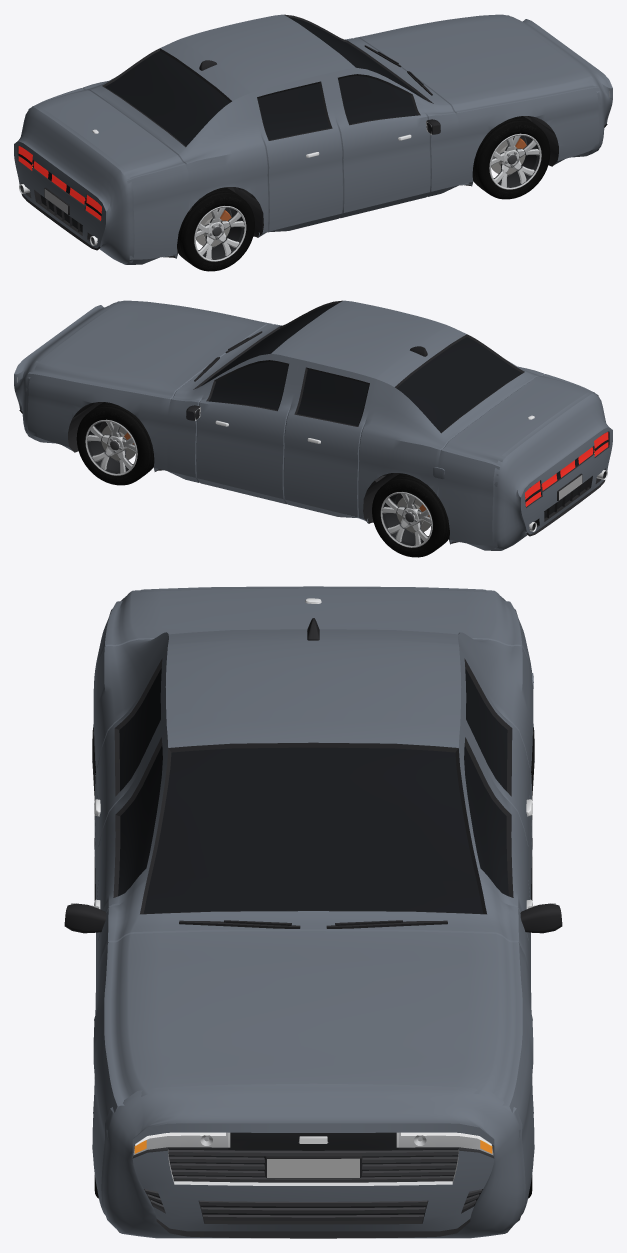
Rendered from veloce-s4.glb.
3 renders of one model, top to bottom at view 1: azimuth 30°, elevation 25°; view 2: azimuth 150°, elevation 25°; view 3: azimuth 270°, elevation 25°, orthographic. The views are drawn at different scales.
Parts seen in each view (by area): view 1: SED_Body, SED_Rear_Clip, SED_Tire_FR, SED_Tire_RR, SED_Rim_FR, SED_Rim_RR, SED_Front_Clip, SED_Rear_Lamps, SED_Brake_FR, SED_Brake_RR; view 2: SED_Body, SED_Rear_Clip, SED_Tire_FL, SED_Tire_RL, SED_Rim_FL, SED_Rim_RL, SED_Front_Clip, SED_Rear_Lamps, SED_Brake_RL; view 3: SED_Body, SED_Front_Clip, SED_Front_Grille, SED_Front_Lamps, SED_Front_Splitter, SED_PlateF_Face, SED_Rear_Clip, SED_Mirror_L, SED_Mirror_R.
Part boxes in pixels (box(x1,y1,x2,y2)): SED_Body: box(28, 14, 601, 264); SED_Rear_Clip: box(14, 106, 134, 264); SED_Tire_FR: box(472, 116, 550, 199); SED_Tire_RR: box(177, 187, 254, 271); SED_Rim_FR: box(489, 133, 541, 189); SED_Rim_RR: box(194, 206, 246, 261); SED_Front_Clip: box(502, 14, 612, 150); SED_Rear_Lamps: box(18, 146, 101, 220); SED_Brake_FR: box(491, 137, 526, 174); SED_Brake_RR: box(196, 209, 231, 246); SED_Body: box(25, 300, 598, 550); SED_Rear_Clip: box(492, 392, 612, 550); SED_Tire_FL: box(76, 402, 154, 485); SED_Tire_RL: box(372, 473, 449, 557); SED_Rim_FL: box(85, 419, 137, 475); SED_Rim_RL: box(380, 492, 432, 547); SED_Front_Clip: box(14, 300, 124, 435); SED_Rear_Lamps: box(525, 432, 608, 506); SED_Brake_RL: box(396, 495, 430, 532); SED_Body: box(92, 588, 534, 1232); SED_Front_Clip: box(101, 1083, 525, 1238); SED_Front_Grille: box(144, 1150, 482, 1220); SED_Front_Lamps: box(134, 1132, 492, 1155); SED_Front_Splitter: box(156, 1219, 470, 1238); SED_PlateF_Face: box(267, 1158, 359, 1177); SED_Rear_Clip: box(109, 586, 517, 615); SED_Mirror_L: box(520, 903, 562, 933); SED_Mirror_R: box(64, 903, 106, 933).
Size of the model in its own units: 4.93 by 1.48 by 2.06.
24 materials, 1 textured.
